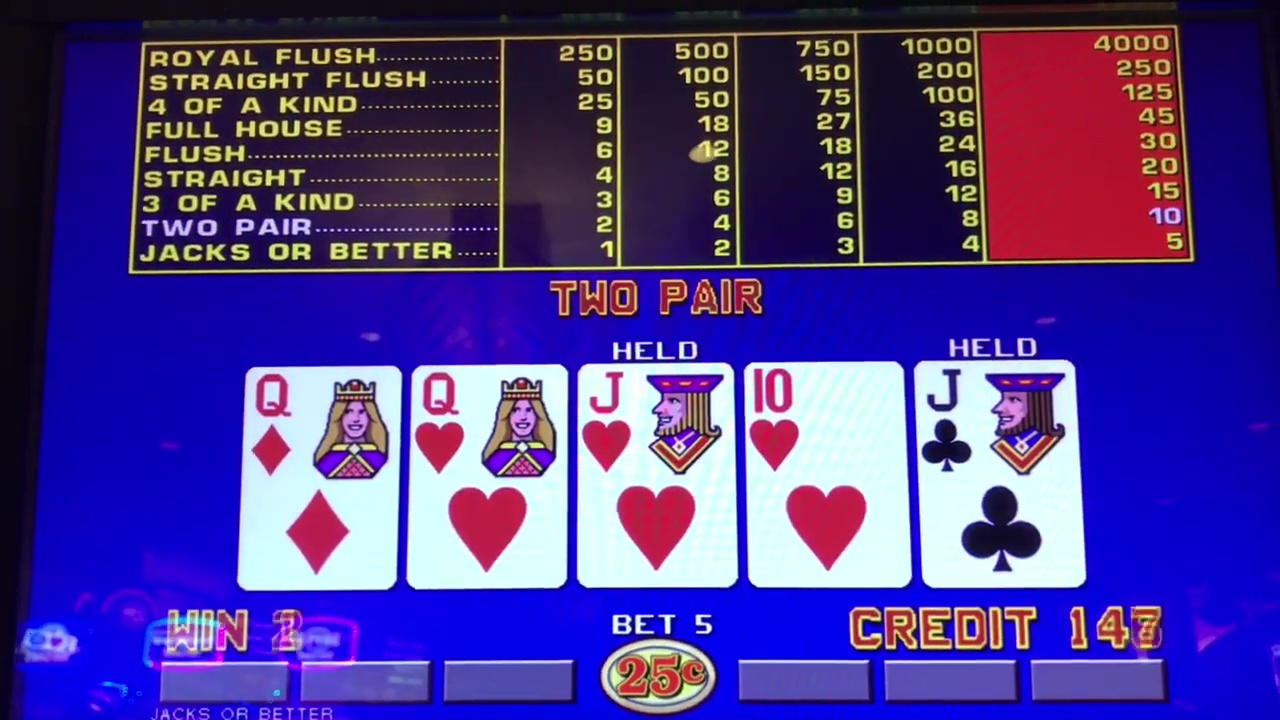CJ: (926, 364, 1073, 583)
DQ: (252, 366, 403, 583)
HJ: (585, 365, 730, 585)
HQ: (417, 368, 557, 585)
HT: (750, 359, 897, 585)
